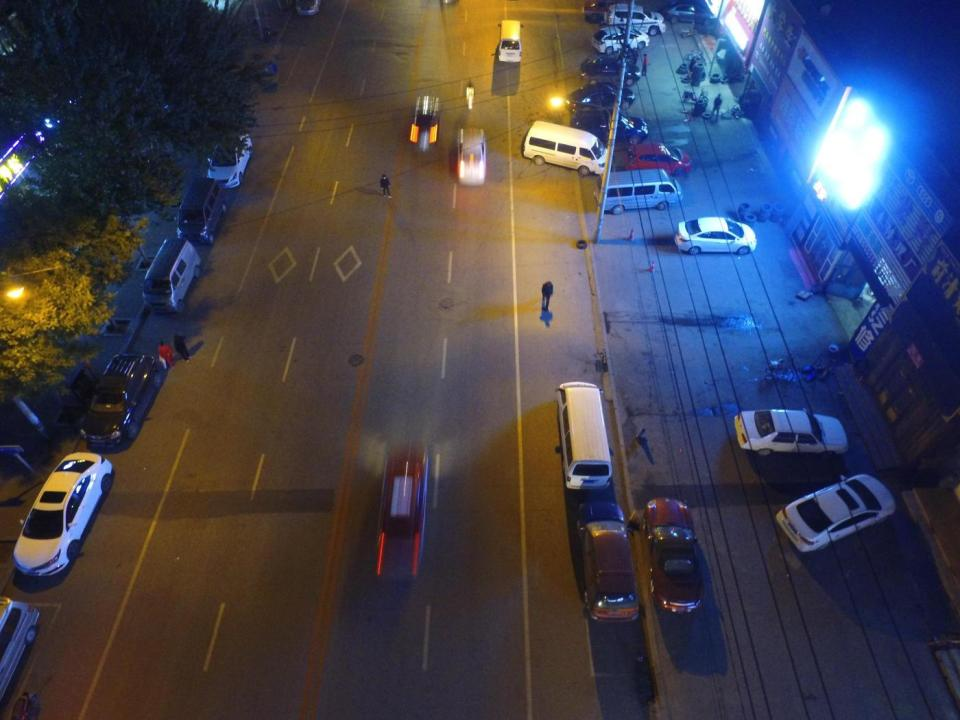car: (11, 451, 114, 578), (776, 472, 897, 552), (79, 351, 158, 449), (644, 496, 706, 614), (579, 499, 638, 621), (734, 406, 847, 458), (0, 598, 37, 706), (380, 456, 426, 538), (679, 217, 756, 258), (571, 111, 647, 148), (614, 142, 694, 176), (209, 129, 252, 190), (605, 3, 666, 35), (566, 83, 633, 112), (582, 54, 640, 85), (459, 128, 488, 189), (591, 27, 652, 50), (668, 0, 717, 27), (415, 95, 439, 146), (294, 0, 321, 16)
van: (556, 382, 615, 490), (144, 234, 202, 315), (521, 122, 608, 176), (596, 169, 681, 213), (175, 178, 228, 246), (496, 19, 522, 64)
